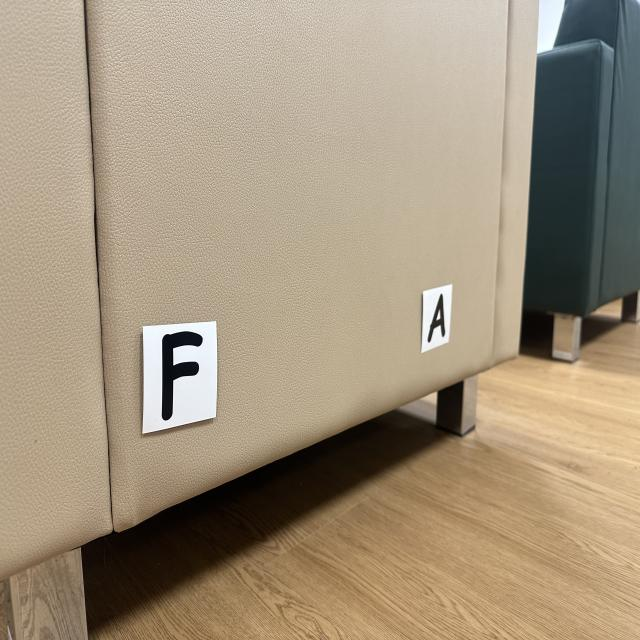A: (428, 293, 445, 342)
V: (142, 322, 218, 433), (161, 332, 202, 420)
